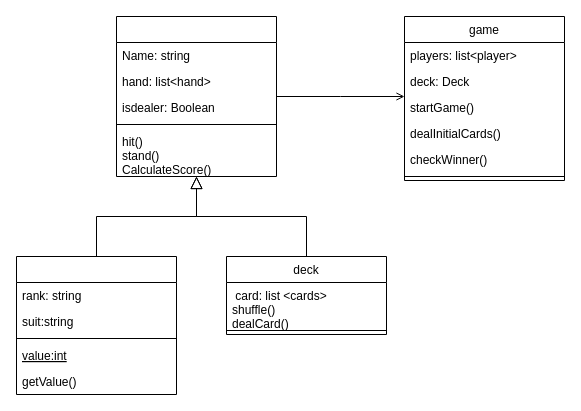
The diagram is 581 pixels wide and 411 high, and some of its shapes have lost their labels. Each missing label, with the box of its shape:
card: (16, 256, 176, 394)
Player: (116, 16, 276, 176)
